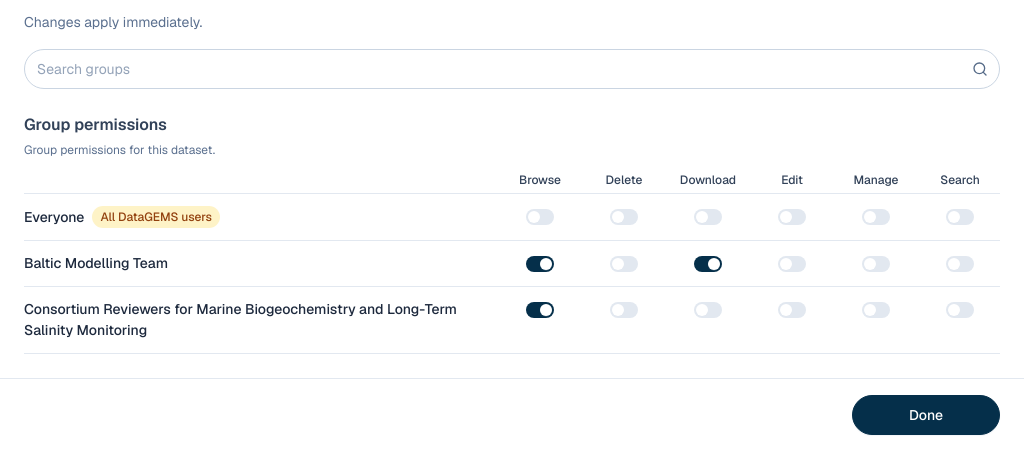
DatasetAccessView — closing and search › filters the list by group name and says so when nothing matches
The width and height of the screenshot is (1024, 453).
In the field labelled "Search groups": x=512, y=69 [24, 49, 1000, 89], type "modelling"
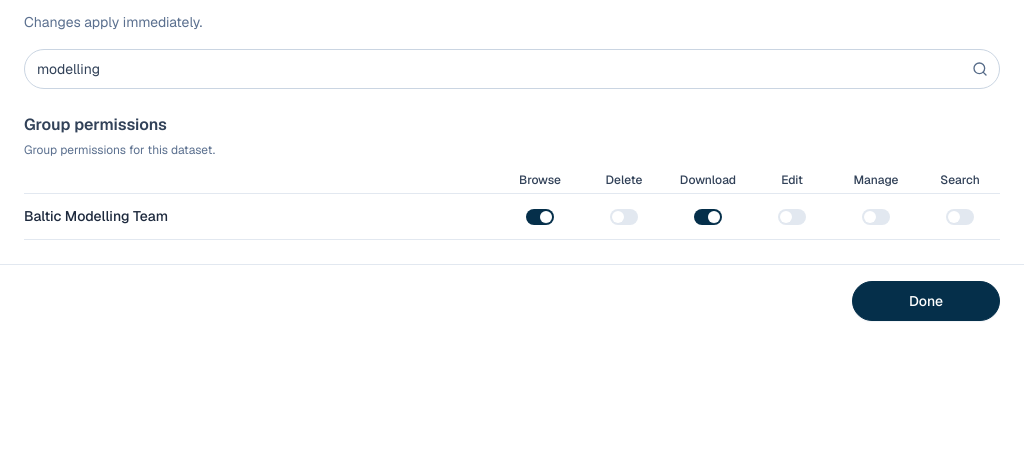
expect the number of switches is 6: met, box [526, 208, 554, 224]; [610, 208, 638, 224]; [694, 208, 722, 224]; [778, 208, 806, 224]; [862, 208, 890, 224]; [946, 208, 974, 224]
Replace the text in the field named "Search groups" with "no such group": x=512, y=69 [24, 49, 1000, 89]
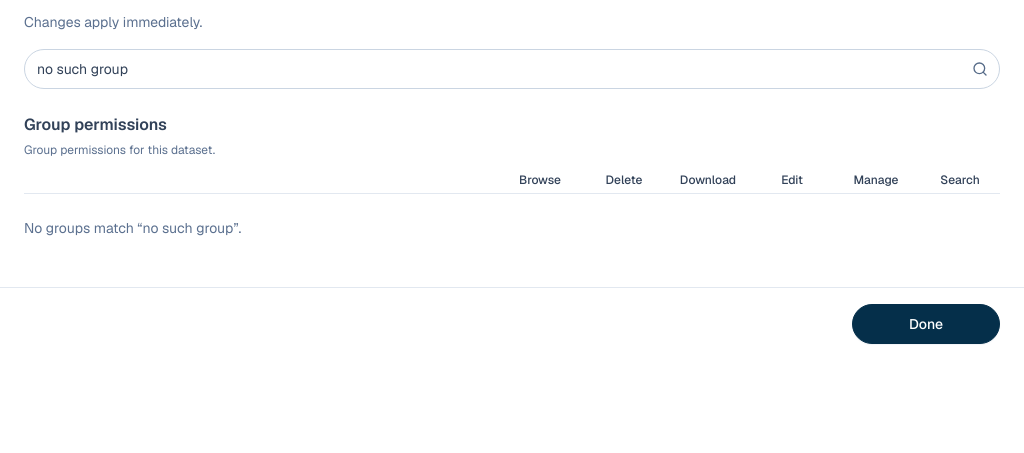
expect no switches are shown: met
expect the text "No groups match “no such group”." is shown: met, box [24, 193, 1000, 263]
